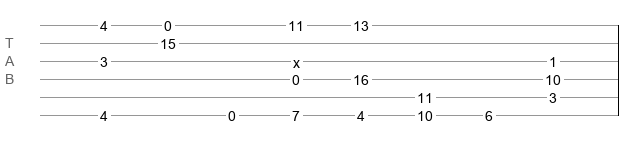0: (164, 18, 172, 28), (228, 108, 236, 118), (292, 72, 300, 82)
1: (549, 54, 557, 64)
10: (417, 108, 433, 118), (545, 72, 561, 82)
11: (288, 18, 304, 28), (417, 90, 433, 100)
13: (353, 18, 369, 28)
15: (160, 36, 176, 46)
16: (353, 72, 369, 82)
3: (100, 54, 108, 64), (549, 90, 557, 100)
4: (100, 18, 108, 28), (100, 108, 108, 118), (357, 108, 365, 118)
6: (485, 108, 493, 118)
7: (292, 108, 300, 118)
x: (293, 55, 300, 63)
